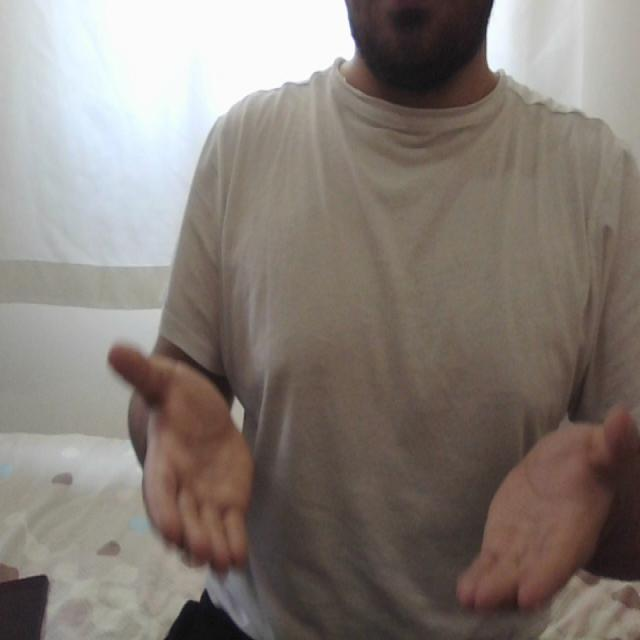Evet: (104, 338, 640, 624)
